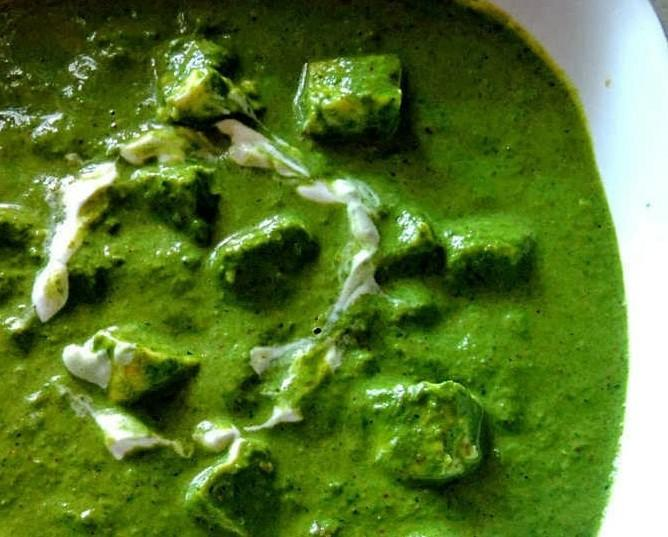PalakPaneer: (0, 0, 626, 537)
